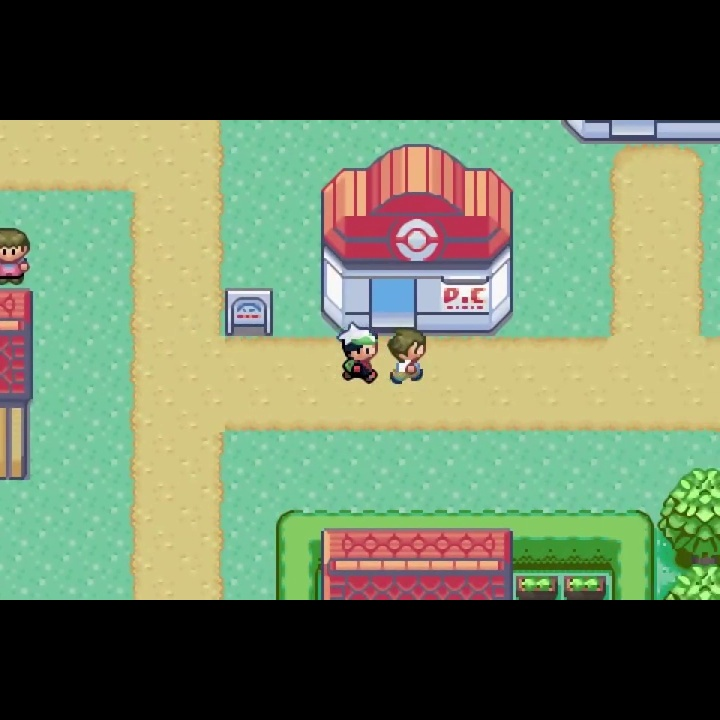npc: (335, 321, 380, 387), (385, 326, 427, 388), (1, 226, 33, 288)
pokecen: (316, 140, 515, 335)
wall: (655, 465, 720, 564), (655, 562, 720, 600)
